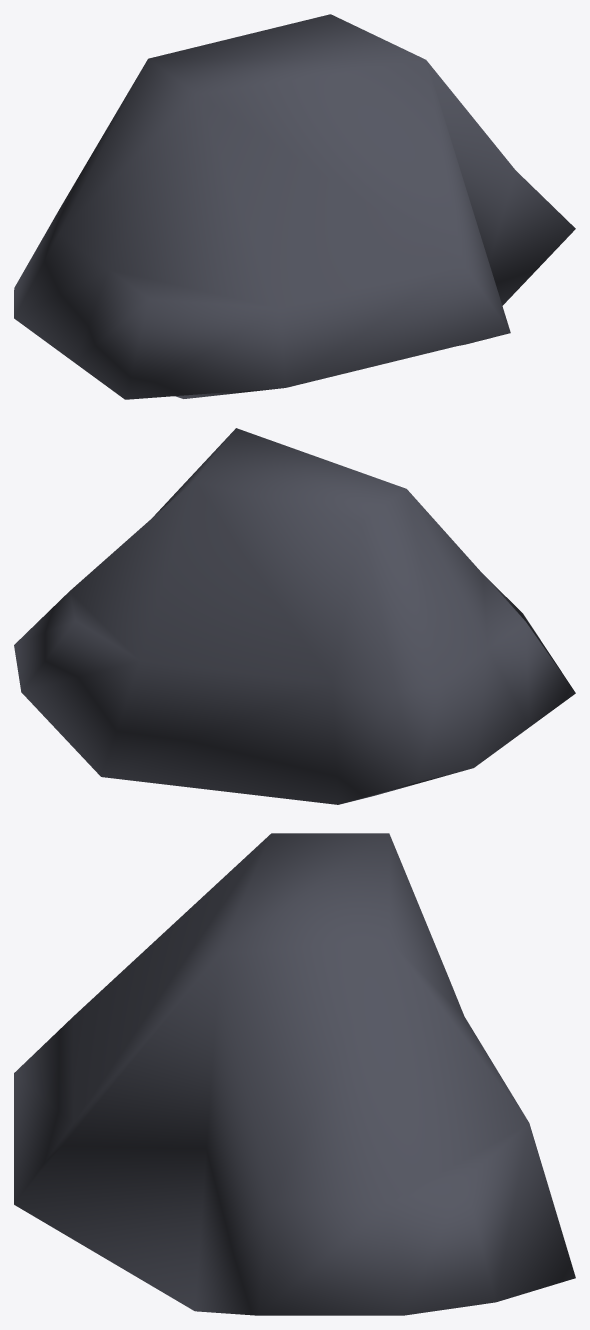
The model's file is Stone6.fbx.
3 views of the same model, one above another, from view 1: azimuth 30°, elevation 25°; view 2: azimuth 150°, elevation 25°; view 3: azimuth 270°, elevation 25° (orthographic). The views are drawn at different scales.
Visible parts, largest first — view 1: Stone_mid_010; view 2: Stone_mid_010; view 3: Stone_mid_010.
Part boxes in pixels (box(x1,y1,x2,y2)): Stone_mid_010: box(14, 14, 575, 399); Stone_mid_010: box(14, 428, 575, 804); Stone_mid_010: box(14, 833, 575, 1315).
Size of the model in its own units: 301 by 169 by 244.
